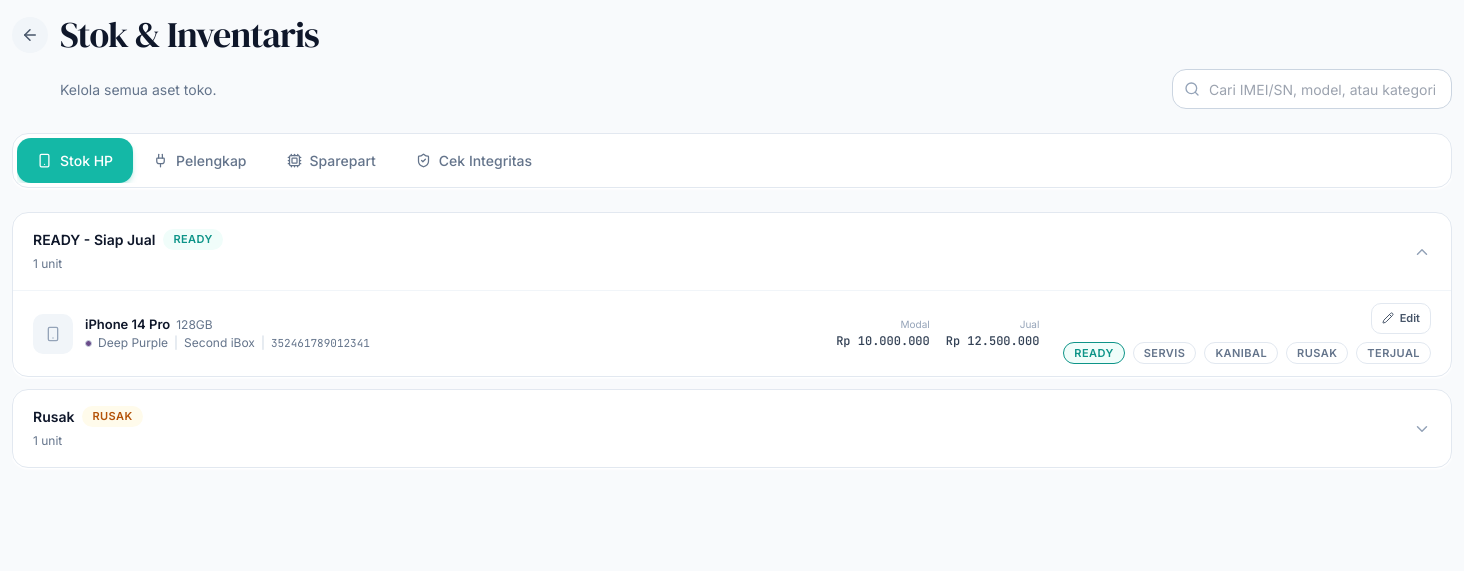
Test: loaded list › renders each unit with its model, IMEI indicator, and status badge after the async load
Check: the list item "iPhone 14 Pro" is shown, box [85,316,170,332]
Check: the text "352461789012341" is shown, box [271,335,370,352]
Click the button "Rusak RUSAK 1 unit". click: point(54, 416)
box: [13,390,1451,467]
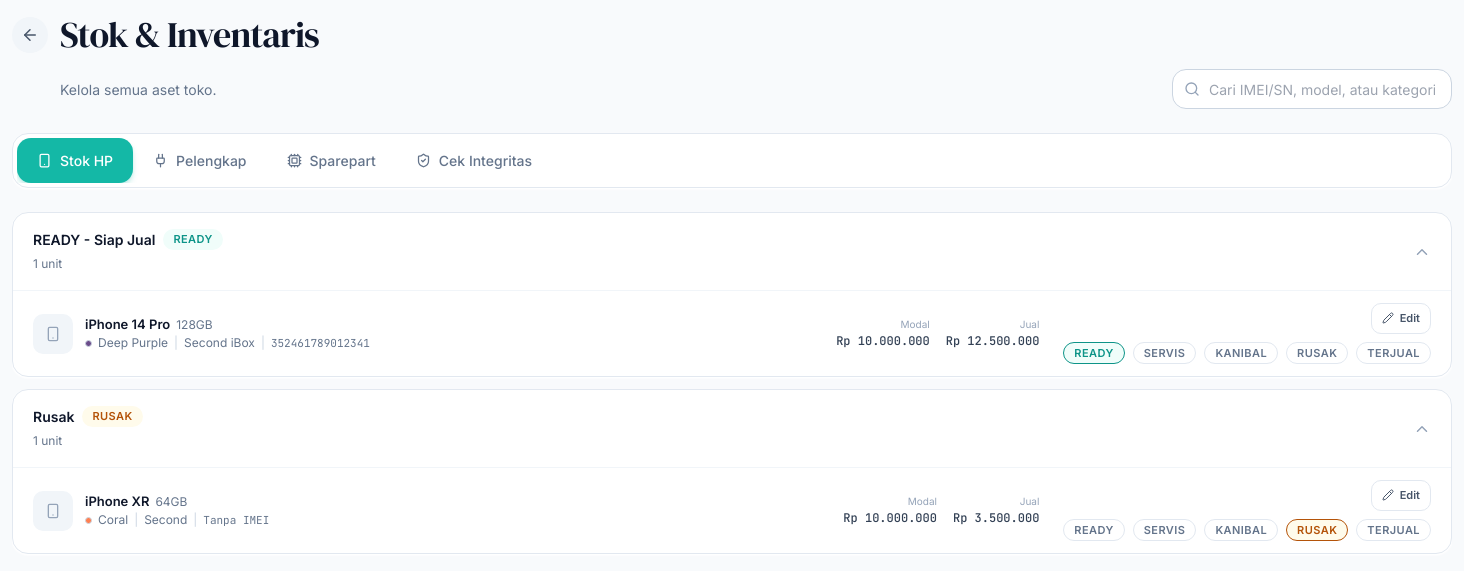
Check: the list item "iPhone XR" is shown, box [85,493,149,509]
Check: the text "Tanpa IMEI" is shown, box [203,512,269,528]
